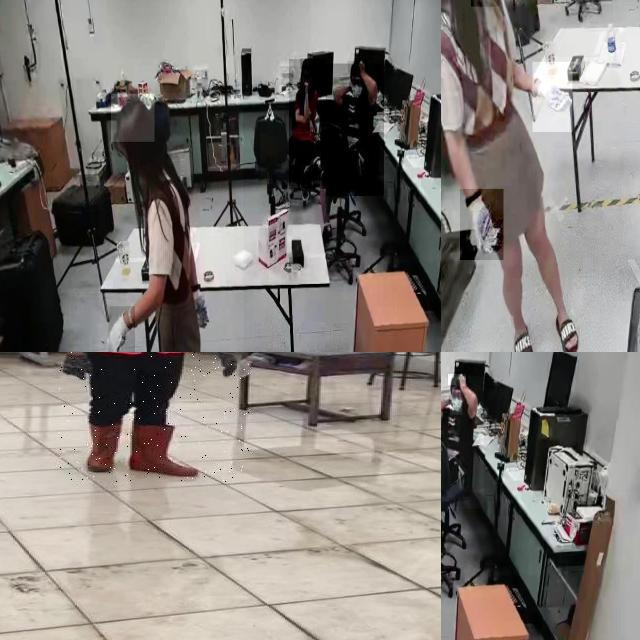boots: (128, 422, 198, 478), (82, 421, 120, 474)
face_mask: (350, 73, 362, 102), (450, 386, 462, 415)
face_nomask: (302, 73, 312, 87)
hand_glove: (460, 189, 504, 261), (532, 62, 572, 132), (108, 306, 135, 352)
hand_noglove: (356, 59, 368, 78), (456, 372, 468, 391), (303, 78, 309, 95), (308, 119, 314, 132)
head_nohelmet: (111, 94, 155, 142), (348, 61, 366, 73), (448, 374, 466, 386), (300, 58, 314, 70)
person: (441, 0, 592, 352), (98, 93, 243, 352), (58, 352, 249, 483), (326, 63, 384, 197), (441, 376, 484, 509), (289, 59, 327, 190)
